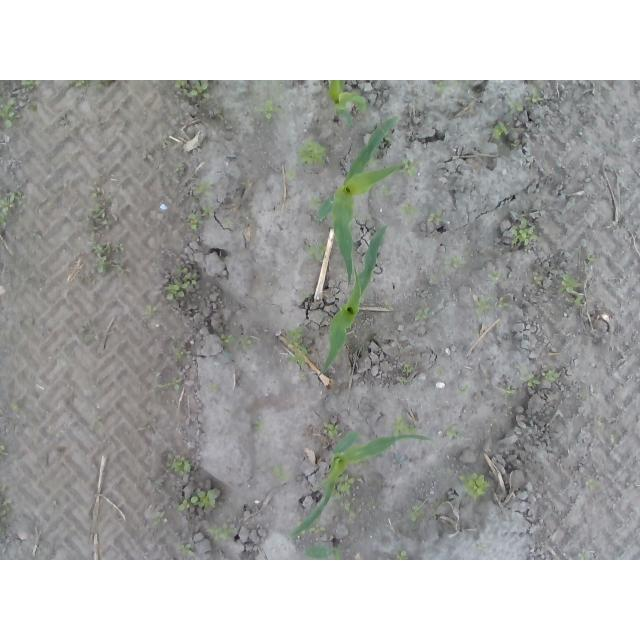Maize: (291, 428, 434, 536), (316, 116, 404, 291), (320, 225, 391, 367), (326, 80, 370, 129), (302, 544, 345, 561)
Weeds: (88, 182, 112, 275), (163, 255, 201, 303), (187, 177, 214, 233), (1, 190, 28, 231), (510, 210, 538, 248), (175, 488, 218, 512), (297, 137, 329, 168), (151, 372, 183, 401), (285, 325, 307, 367), (457, 471, 491, 497), (256, 95, 288, 121), (336, 478, 356, 519), (560, 275, 584, 305), (166, 453, 193, 476), (527, 367, 561, 385), (175, 80, 209, 98), (0, 494, 16, 530), (112, 240, 127, 277), (208, 525, 240, 541), (0, 100, 16, 132), (303, 241, 326, 262), (490, 120, 510, 141), (474, 294, 490, 320), (390, 418, 418, 432), (433, 80, 465, 92), (218, 335, 255, 345), (398, 363, 414, 385), (455, 383, 474, 401), (428, 210, 449, 226), (272, 467, 293, 482), (152, 511, 169, 529), (142, 304, 158, 321), (407, 505, 421, 524), (529, 87, 543, 106), (445, 422, 460, 439), (323, 422, 338, 439), (402, 161, 419, 176), (302, 525, 327, 535), (399, 204, 418, 217), (448, 253, 465, 267), (413, 308, 431, 321), (20, 81, 41, 92), (509, 100, 524, 115), (179, 542, 193, 558), (531, 270, 543, 288), (175, 350, 193, 362), (584, 478, 598, 493), (309, 192, 322, 208), (94, 81, 112, 92), (425, 367, 444, 377), (496, 300, 517, 309), (395, 549, 412, 560), (489, 270, 504, 282), (175, 160, 185, 177), (286, 168, 299, 180), (206, 382, 218, 395), (583, 255, 597, 266), (70, 80, 89, 88), (255, 418, 265, 433), (240, 180, 255, 188), (578, 552, 591, 561), (502, 385, 511, 396), (28, 103, 38, 112), (378, 187, 390, 194), (0, 443, 6, 457), (473, 329, 481, 337), (510, 142, 518, 149), (382, 304, 391, 309)
